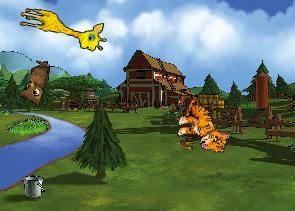giraffe: (15, 5, 109, 54)
owl: (17, 57, 50, 107)
tiger: (171, 96, 237, 156)
